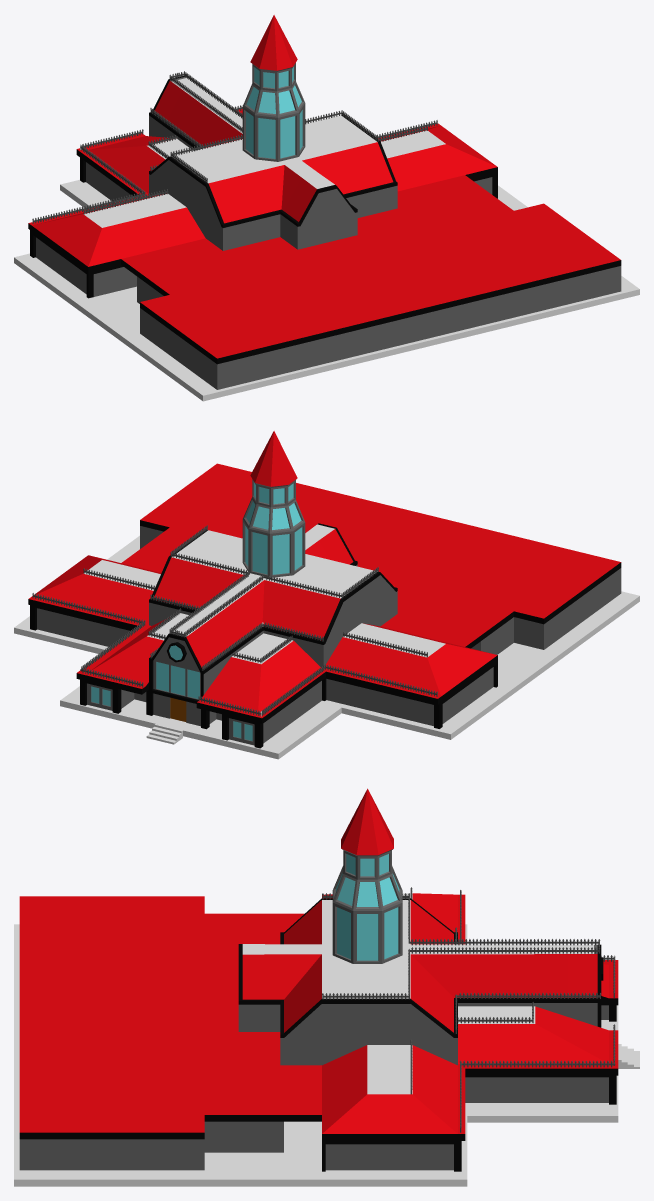
The model's file is House.fbx.
3 views of the same model, one above another, from view 1: azimuth 30°, elevation 25°; view 2: azimuth 150°, elevation 25°; view 3: azimuth 270°, elevation 25° (orthographic). The views are drawn at different scales.
Parts seen in each view (by area): view 1: RoofBack, House, GroundUpdate, Tower, RoofFront, RoofRailing.008, RoofRailing.003, RoofRailing.009; view 2: RoofBack, House, GroundUpdate, RoofFront, Tower, RoofRailing.003, RoofRailing.008, RoofRailing.011, RoofRailing.009, RoofRailing.007, RoofRailing.005, Stairs (+1 smaller); view 3: RoofBack, House, GroundUpdate, RoofFront, Tower, RoofRailing.008, RoofRailing.011, RoofRailing.002.
Part boxes in pixels (<box>): RoofBack: <box>28,123,621,364</box>; House: <box>30,75,621,389</box>; GroundUpdate: <box>14,179,639,401</box>; Tower: <box>242,15,305,161</box>; RoofFront: <box>76,109,242,196</box>; RoofRailing.008: <box>169,71,242,132</box>; RoofRailing.003: <box>32,120,437,223</box>; RoofRailing.009: <box>83,125,427,214</box>; RoofBack: <box>28,463,621,704</box>; House: <box>30,523,621,748</box>; GroundUpdate: <box>14,535,639,759</box>; RoofFront: <box>76,613,325,723</box>; Tower: <box>242,431,305,577</box>; RoofRailing.003: <box>32,593,437,696</box>; RoofRailing.008: <box>169,571,263,637</box>; RoofRailing.011: <box>80,620,326,715</box>; RoofRailing.009: <box>83,568,427,657</box>; RoofRailing.007: <box>170,551,342,598</box>; RoofRailing.005: <box>81,667,260,715</box>; Stairs: <box>146,724,182,744</box>; RoofBack: <box>19,893,465,1140</box>; House: <box>19,898,616,1171</box>; GroundUpdate: <box>14,924,618,1186</box>; RoofFront: <box>458,960,618,1075</box>; Tower: <box>332,788,402,963</box>; RoofRailing.008: <box>409,939,600,953</box>; RoofRailing.011: <box>460,955,615,1067</box>; RoofRailing.002: <box>457,992,601,998</box>.
Bounding box in the file's own units: 8000 × 3984 × 8285.
